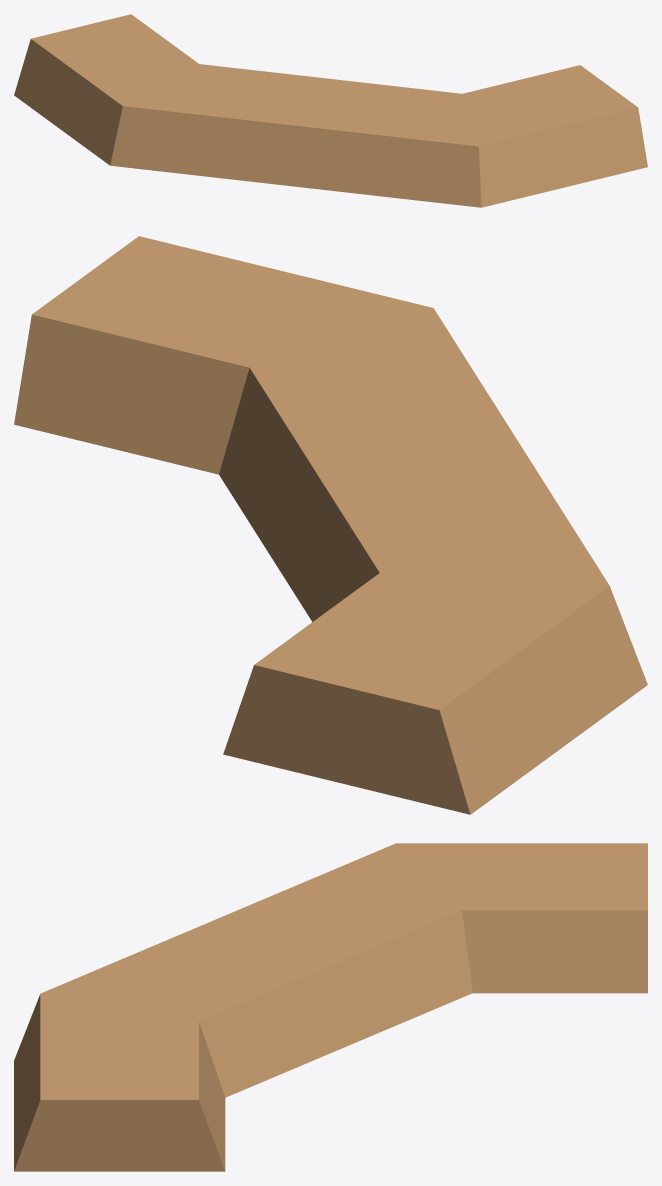
The model's file is Wall_Curved_Small_Base.fbx.
3 views of the same model, one above another, from view 1: azimuth 30°, elevation 25°; view 2: azimuth 150°, elevation 25°; view 3: azimuth 270°, elevation 25° (orthographic). The views are drawn at different scales.
Parts seen in each view (by area): view 1: object1; view 2: object1; view 3: object1.
Boxes of the visible parts, <box> form: object1: <box>14,14,647,207</box>; object1: <box>14,236,647,814</box>; object1: <box>14,843,647,1171</box>.
Bounding box in the file's own units: 1.2 × 0.15 × 1.2.
